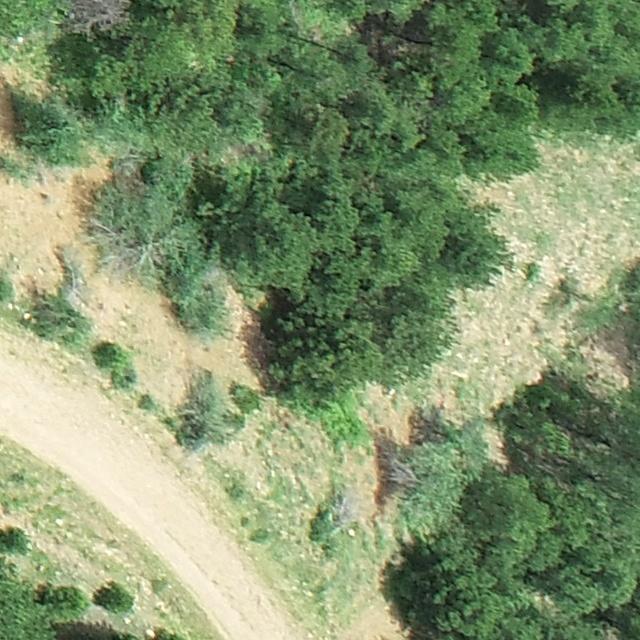unhealthy: (85, 214, 162, 273), (73, 0, 134, 30), (380, 442, 418, 485)
